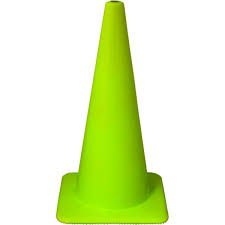cones: (55, 2, 168, 225)
